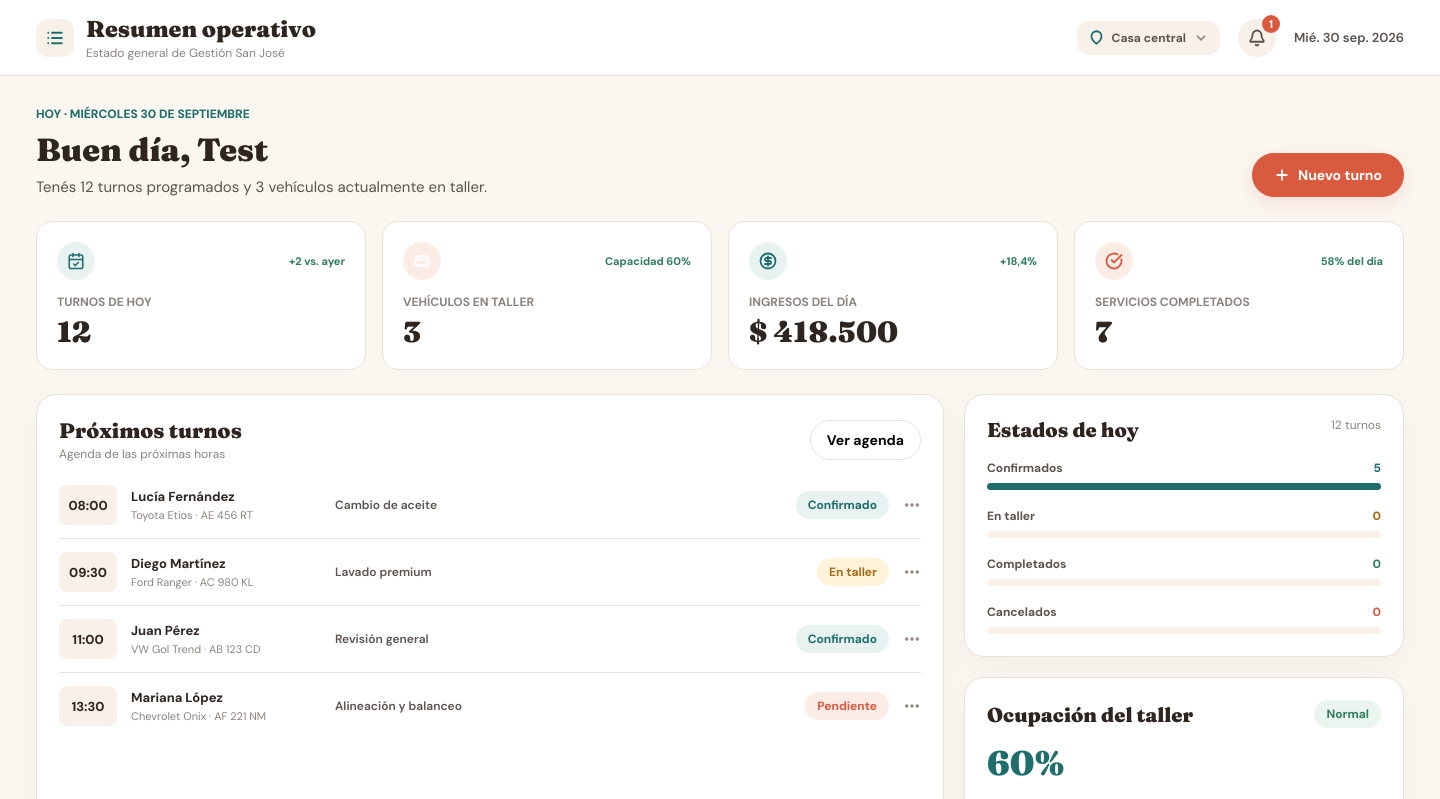
it: Reservar turno › arranca plegado y se despliega con la hamburguesa del encabezado
The image size is (1440, 799).
Expected: the text "Resumen operativo" is shown, [86, 14, 316, 42]
# Desplegar desde la hamburguesa.
Click the button named "desplegar el menú".
click(55, 38)  # box [36, 18, 74, 56]
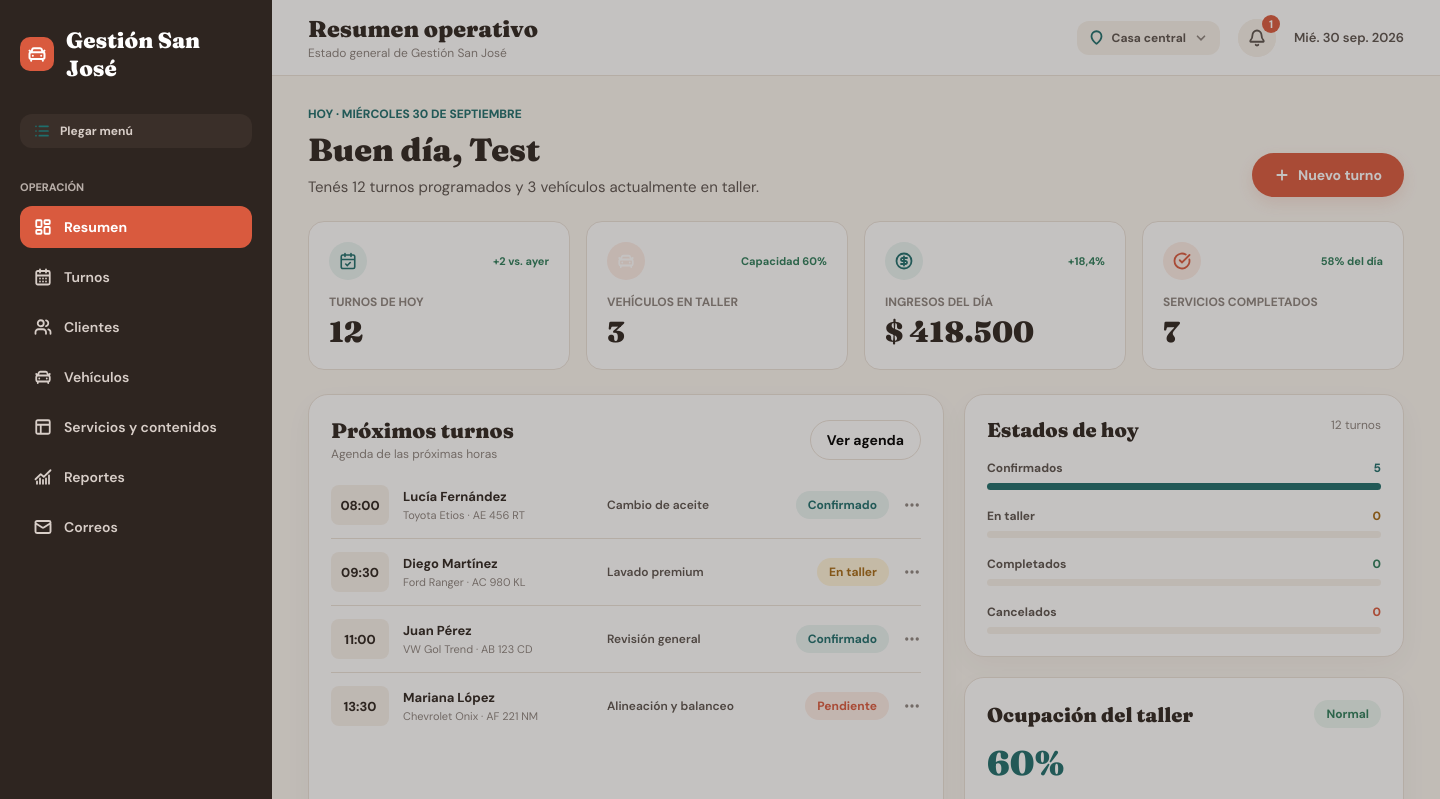
Result: the text "Turnos" is shown at [64, 268, 110, 286]
# Y volver a sacarlo.
Click the button with aria-label "plegar el menú".
click(136, 131)  # box [20, 114, 252, 148]
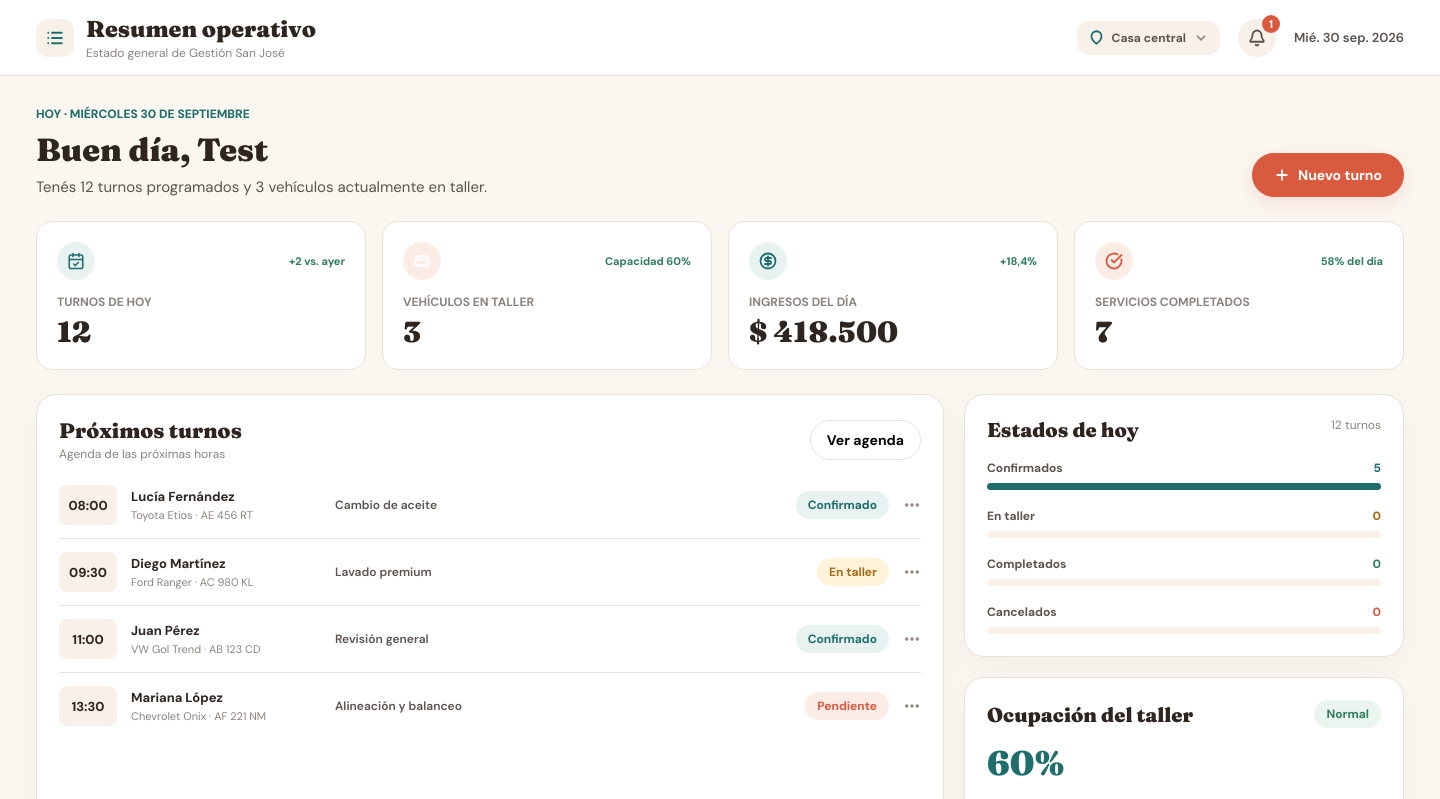
Result: the button named "desplegar el menú" is shown at [36, 18, 74, 56]
